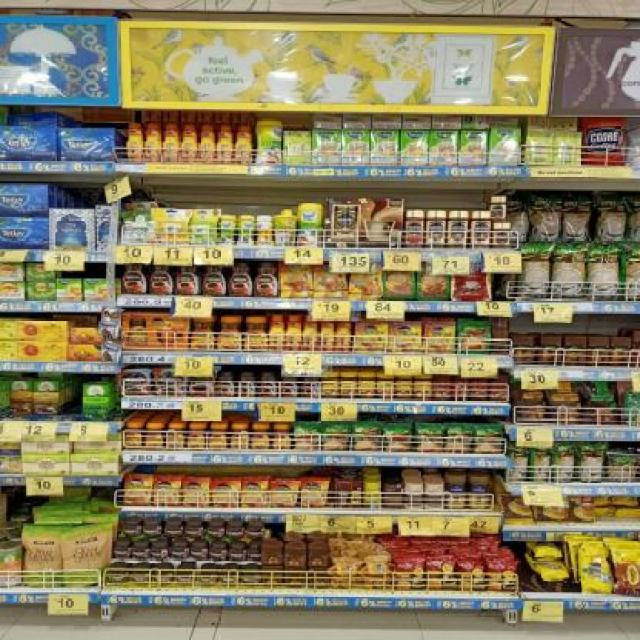Coffee: (314, 260, 346, 298), (279, 261, 312, 297), (350, 263, 382, 299), (355, 319, 388, 352), (189, 316, 217, 352), (423, 320, 454, 352), (388, 322, 421, 352), (120, 260, 148, 294), (215, 317, 242, 352), (253, 261, 279, 297), (227, 261, 253, 297), (153, 368, 184, 398), (174, 262, 201, 296), (116, 369, 150, 396), (243, 317, 268, 352), (124, 473, 151, 505), (427, 210, 448, 250), (202, 264, 228, 296), (211, 478, 238, 508), (239, 478, 266, 508), (149, 262, 173, 295), (299, 479, 327, 507), (153, 476, 179, 506), (270, 478, 296, 507), (183, 477, 208, 506), (472, 212, 491, 250), (448, 210, 467, 248), (188, 369, 214, 396), (302, 314, 320, 352), (318, 316, 336, 352), (126, 123, 143, 159), (236, 126, 253, 162), (286, 314, 302, 352), (218, 125, 233, 164), (336, 317, 353, 351), (182, 125, 198, 161), (269, 314, 285, 349), (165, 124, 180, 161), (200, 125, 215, 162), (216, 372, 238, 396), (250, 425, 272, 449), (230, 424, 250, 450), (147, 124, 161, 160), (189, 423, 209, 448), (145, 423, 164, 449), (273, 423, 292, 449), (493, 223, 512, 248), (168, 422, 187, 447), (238, 373, 258, 396), (125, 422, 144, 446), (490, 196, 507, 222), (258, 373, 277, 396), (210, 424, 228, 448), (280, 375, 298, 396), (301, 377, 319, 398), (107, 568, 130, 583), (122, 518, 141, 536), (170, 543, 190, 560), (164, 520, 185, 536), (228, 522, 246, 540), (142, 519, 161, 536), (221, 569, 239, 586), (186, 520, 205, 536), (132, 568, 151, 584), (176, 570, 195, 586), (243, 570, 262, 586), (199, 570, 218, 586), (208, 521, 226, 537), (248, 522, 266, 538), (151, 544, 169, 560), (190, 544, 208, 560), (155, 569, 173, 585), (228, 545, 247, 560), (114, 542, 131, 558), (210, 545, 228, 560), (133, 544, 150, 559), (248, 544, 262, 562)
